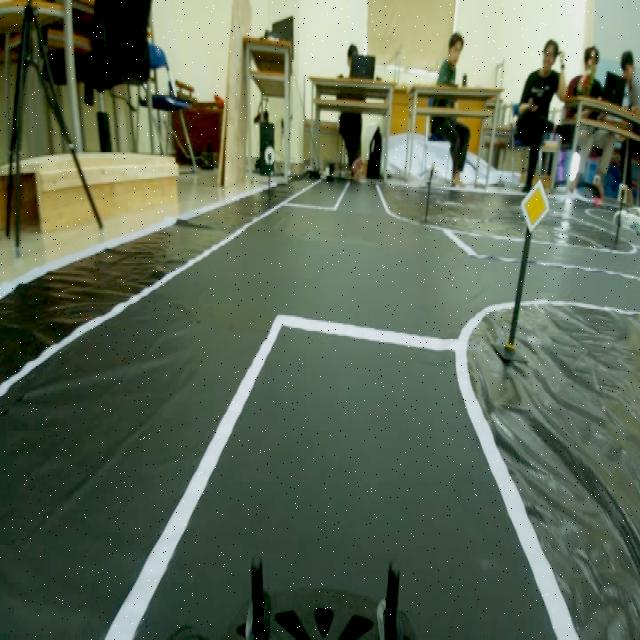priority: (517, 171, 551, 238)
